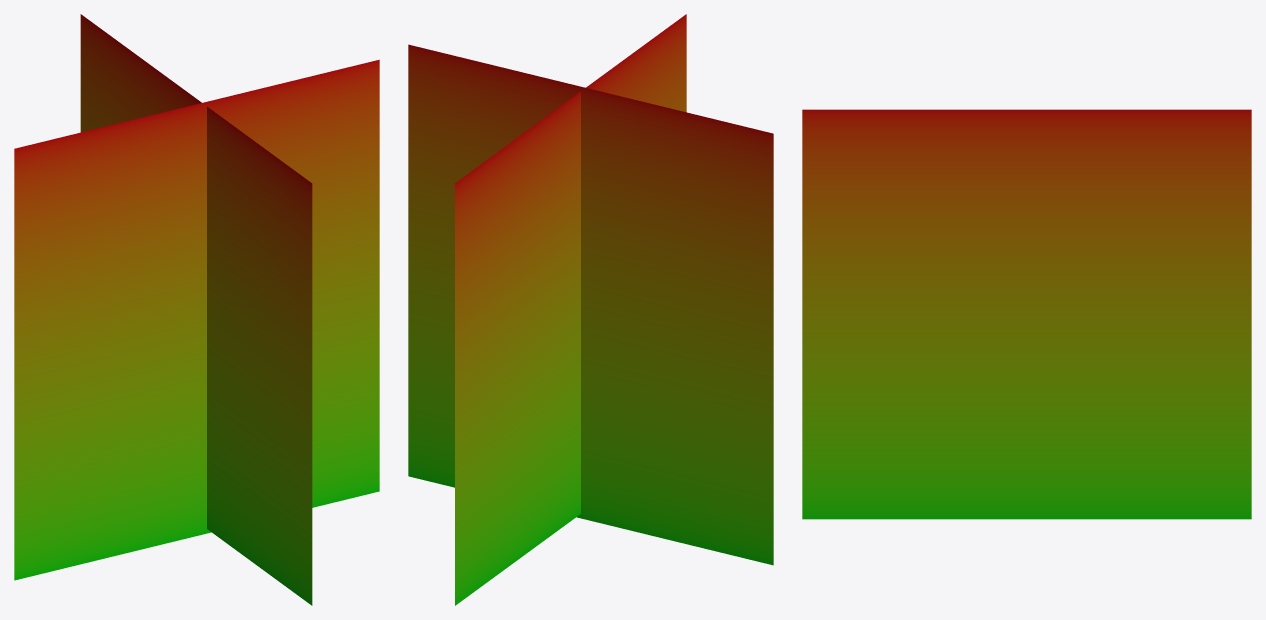
File: Var2_LOD3.fbx
The picture shows the model from 3 angles, left to right: view 1: azimuth 30°, elevation 25°; view 2: azimuth 150°, elevation 25°; view 3: azimuth 270°, elevation 25°; orthographic projection. The views are drawn at different scales.
Parts seen in each view (by area): view 1: _2026_Var2_LOD3; view 2: _2026_Var2_LOD3; view 3: _2026_Var2_LOD3.
Part boxes in pixels (bbox=[...]): _2026_Var2_LOD3: bbox=[14, 14, 379, 605]; _2026_Var2_LOD3: bbox=[408, 14, 773, 605]; _2026_Var2_LOD3: bbox=[802, 109, 1251, 519].
Size of the model in its own units: 20.27 by 22.88 by 22.23.
